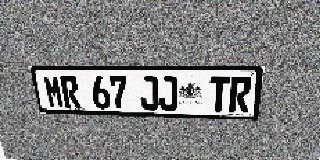6: (90, 76, 111, 109)
7: (108, 76, 129, 110)
J: (158, 76, 178, 111), (139, 76, 159, 110)
M: (43, 76, 65, 108)
R: (228, 77, 252, 113), (59, 76, 81, 108)
T: (208, 77, 231, 112)
